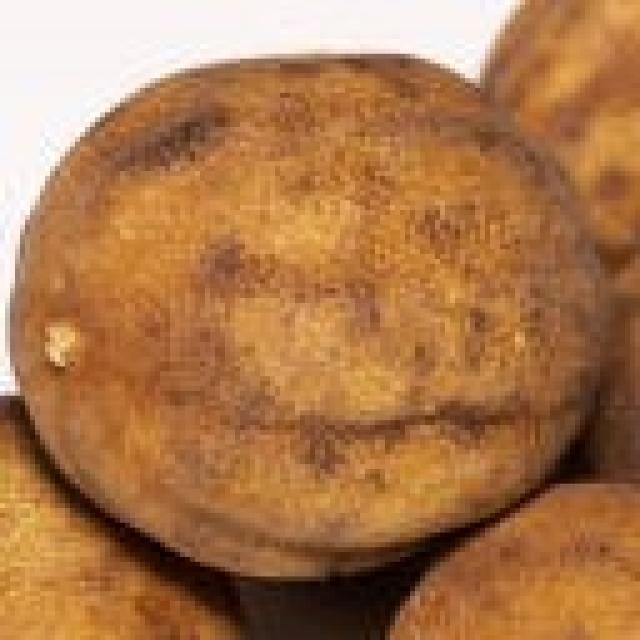overripe: (6, 43, 620, 584)
